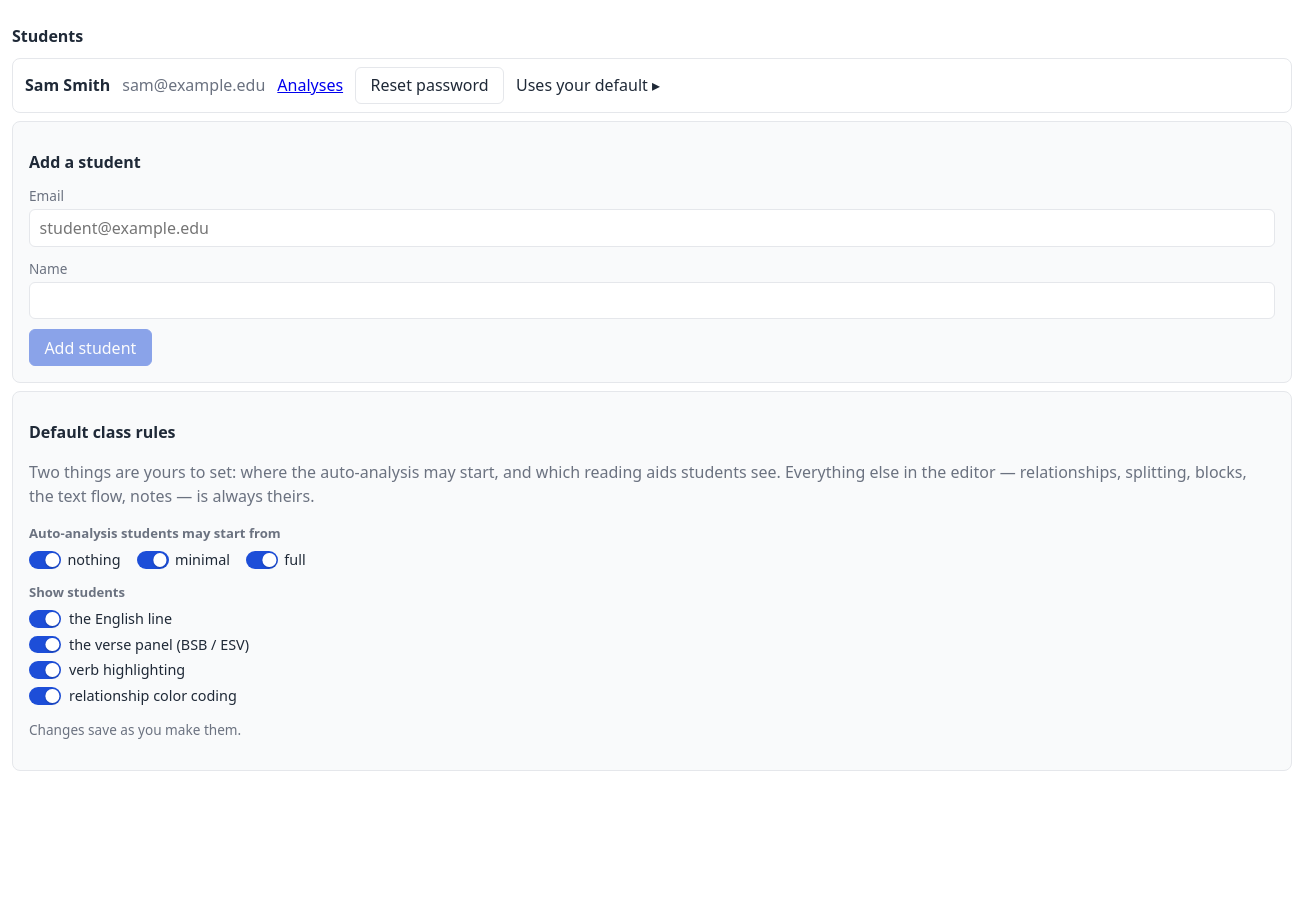
Test case: /teach/:id — the policy editor › adds a student by email and name, and says the mail went out
The width and height of the screenshot is (1292, 900).
Expected: the link "Analyses" is shown, x1=277 y1=73 x2=343 y2=97
In the field labelled "Email": (652, 228) x1=29 y1=209 x2=1275 y2=247, type "kid@example.edu"
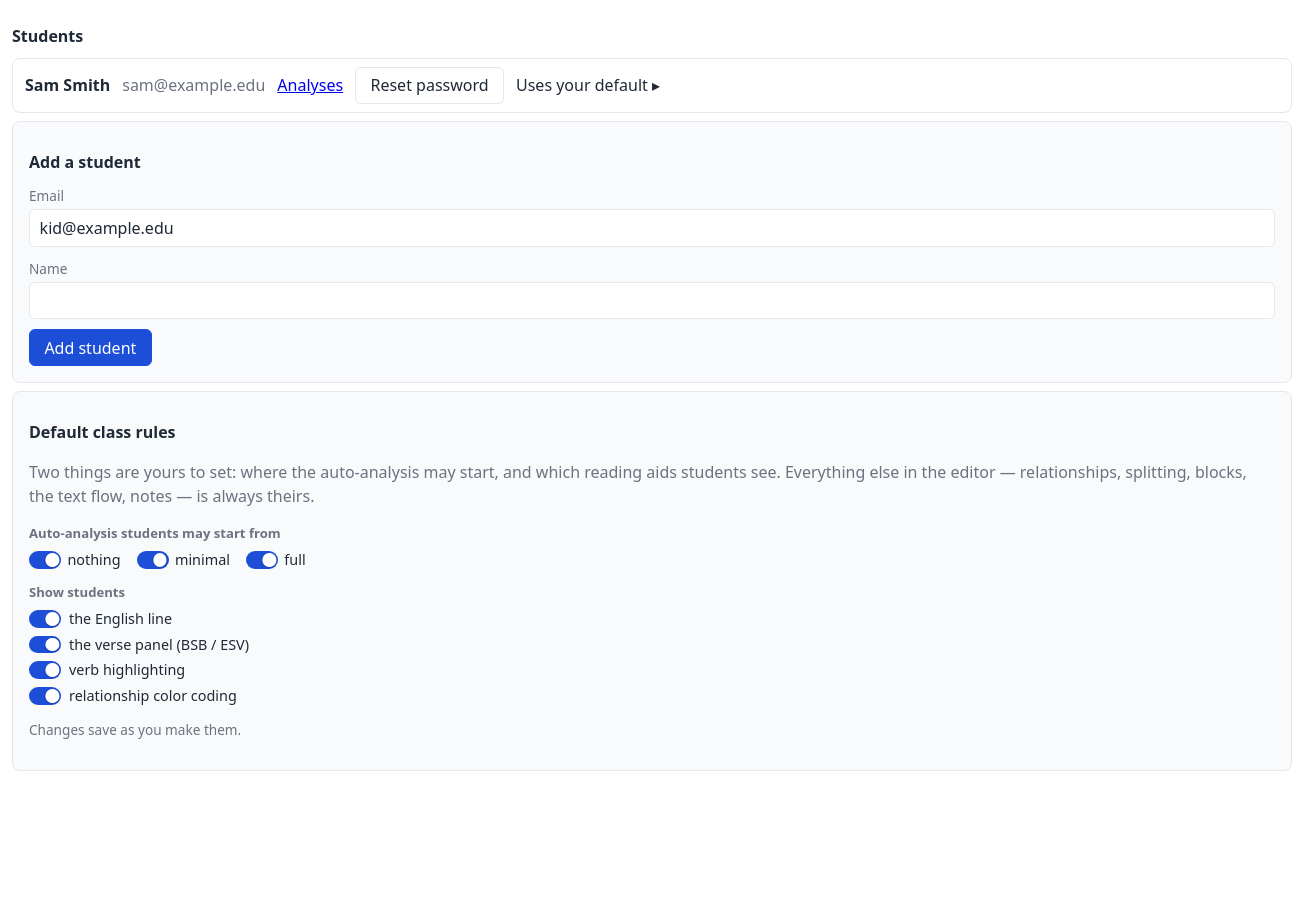
In the field labelled "Name": (652, 301) x1=29 y1=282 x2=1275 y2=319, type "Kid"
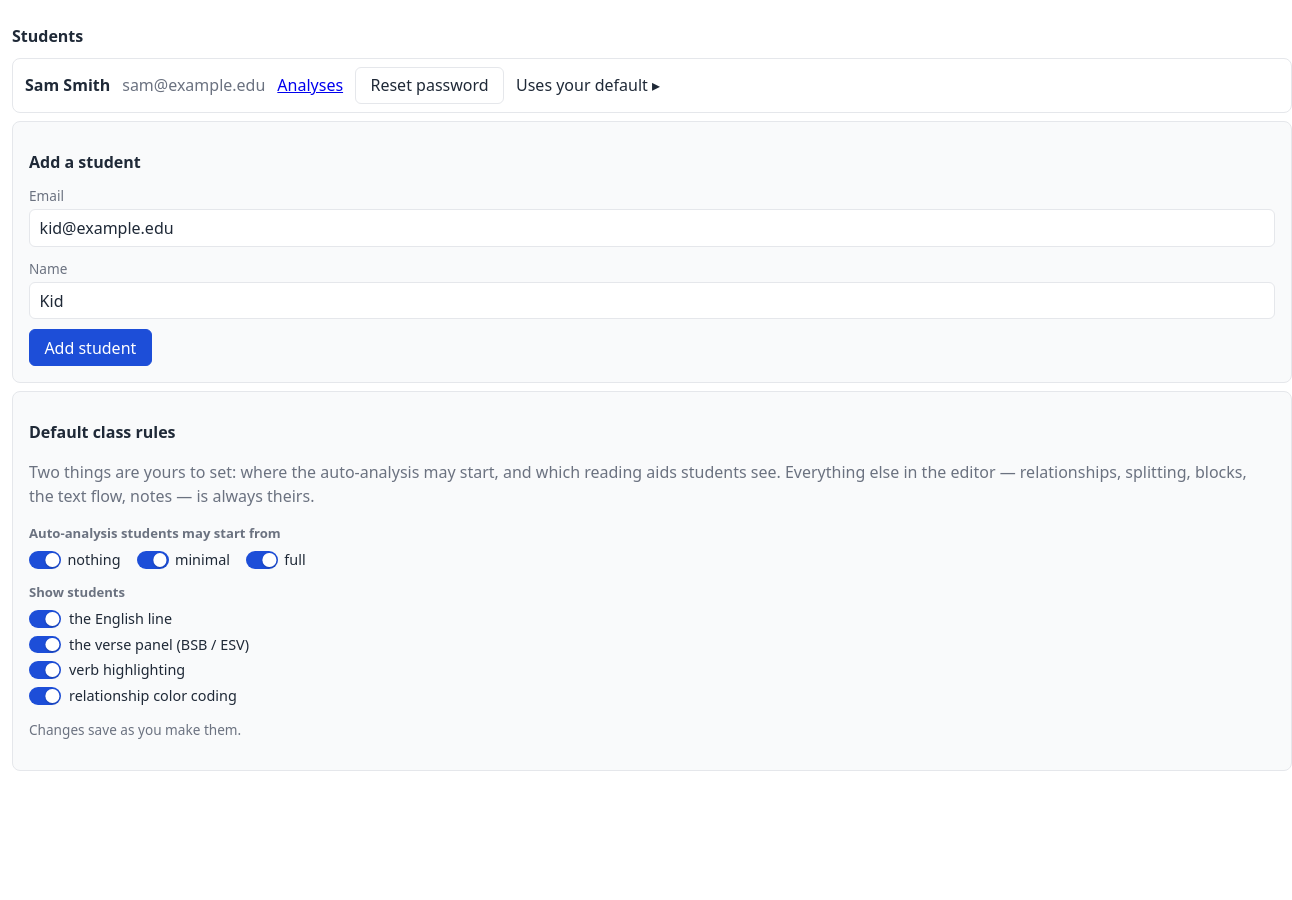
Click the button "Add student": (90, 348) x1=29 y1=329 x2=152 y2=366
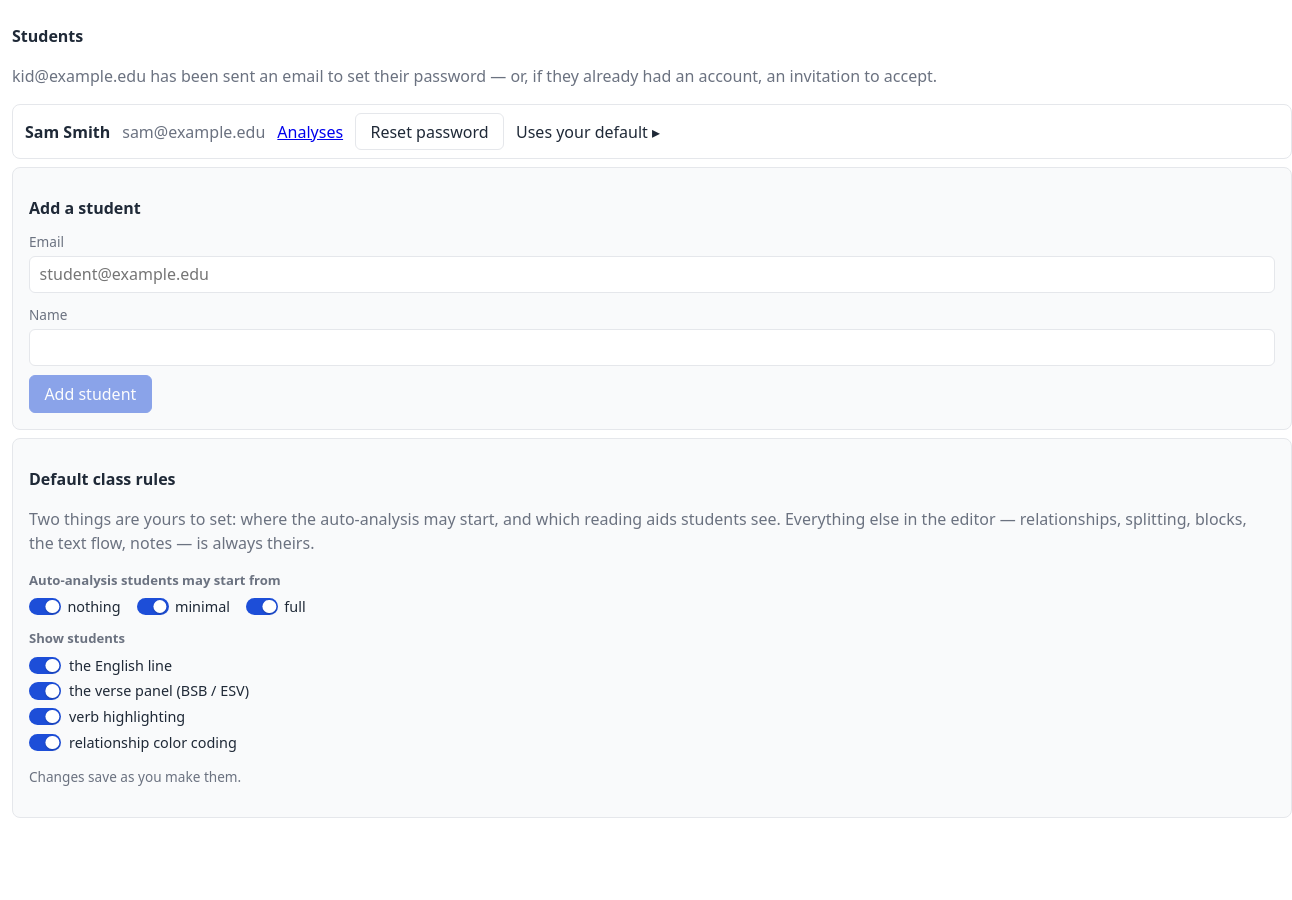
Now the text "kid@example.edu has been sent an email" is shown, box x1=12 y1=65 x2=937 y2=87
